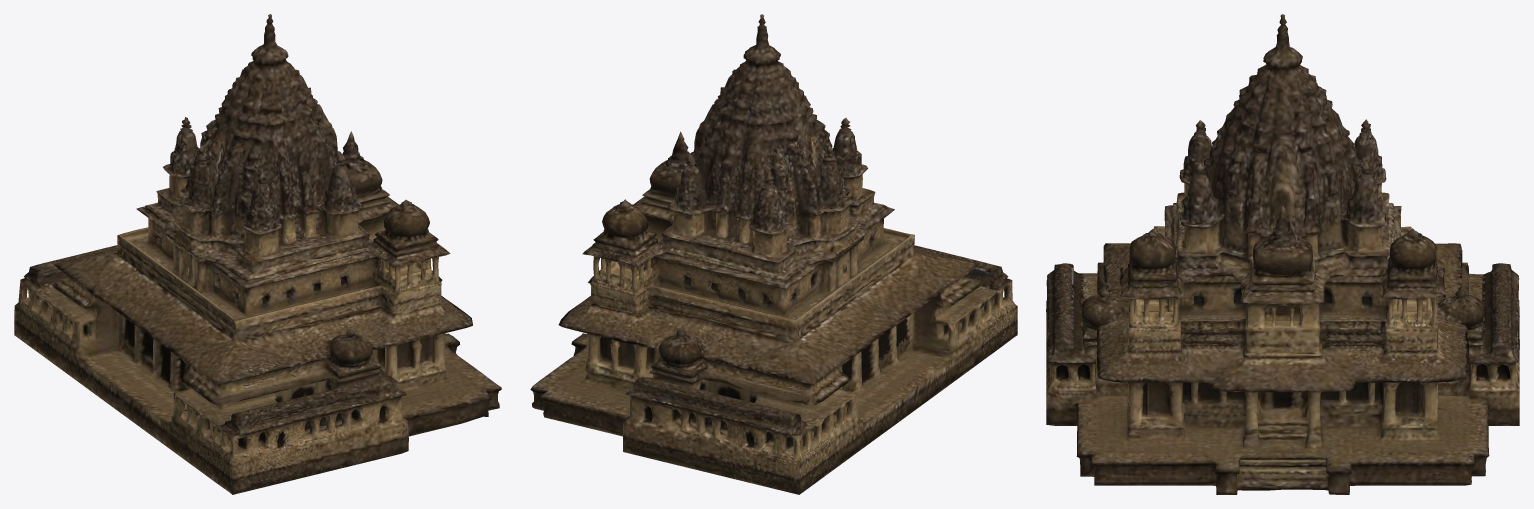
Rendered from tripo_convert_38a7250e-807a-4761-b672-37aa786653b6.fbx.
The picture shows the model from 3 angles, left to right: view 1: azimuth 30°, elevation 25°; view 2: azimuth 150°, elevation 25°; view 3: azimuth 270°, elevation 25°; orthographic projection. The views are drawn at different scales.
Parts seen in each view (by area): view 1: tripo_node_38a7250e; view 2: tripo_node_38a7250e; view 3: tripo_node_38a7250e.
Boxes of the visible parts, bbox=[...] form: tripo_node_38a7250e: bbox=[14, 14, 501, 494]; tripo_node_38a7250e: bbox=[530, 14, 1017, 494]; tripo_node_38a7250e: bbox=[1046, 14, 1519, 494].
Size of the model in its own units: 0.8075 by 0.919 by 0.9955.
1 material, 1 textured.
